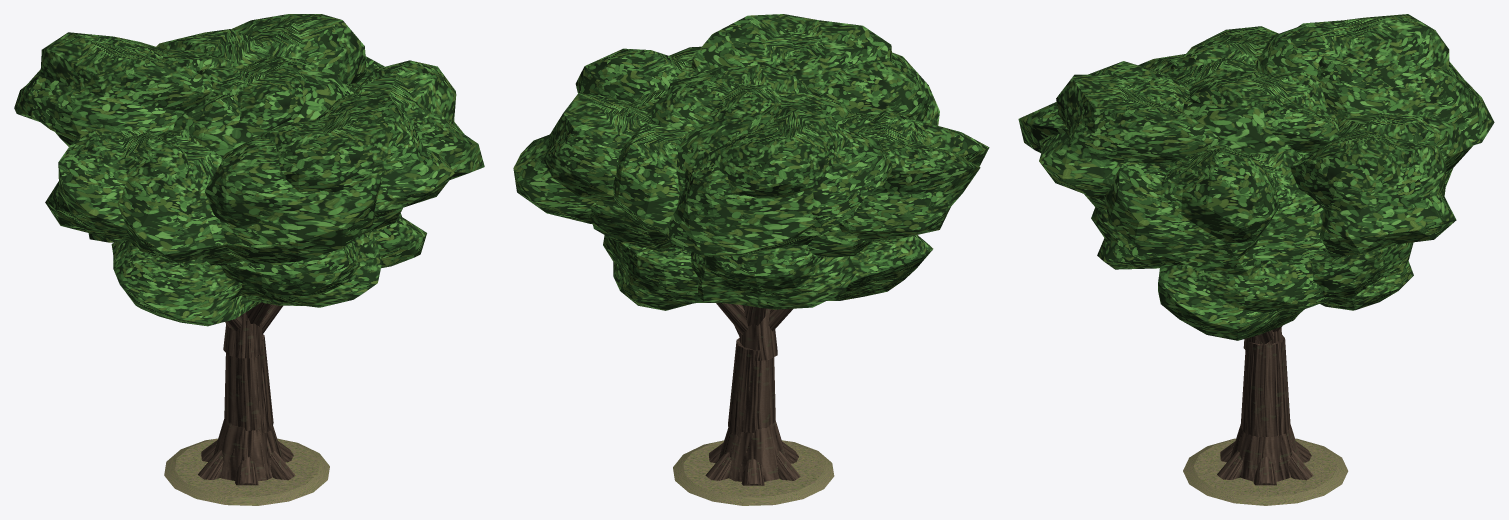
File: laurel_de_la_india.obj
3 views of the same model, side by side, from view 1: azimuth 30°, elevation 25°; view 2: azimuth 150°, elevation 25°; view 3: azimuth 270°, elevation 25° (orthographic). The views are drawn at different scales.
Parts seen in each view (by area): view 1: Follaje_Laurel_10, Follaje_Laurel_5, Follaje_Laurel_4, Follaje_Laurel_8, Follaje_Laurel_7, Follaje_Laurel_9, Follaje_Laurel_6, Follaje_Laurel_2, Follaje_Laurel_14, Base_Tierra_Pasto_Arbol, Follaje_Laurel_21, Follaje_Laurel_16 (+7 smaller); view 2: Follaje_Laurel_10, Follaje_Laurel_11, Follaje_Laurel_14, Follaje_Laurel_8, Follaje_Laurel_4, Follaje_Laurel_12, Follaje_Laurel_13, Follaje_Laurel_21, Base_Tierra_Pasto_Arbol, Follaje_Laurel_5, Follaje_Laurel_15, Follaje_Laurel_2 (+8 smaller); view 3: Follaje_Laurel_2, Follaje_Laurel_14, Follaje_Laurel_4, Follaje_Laurel_3, Follaje_Laurel_10, Follaje_Laurel_11, Follaje_Laurel_21, Base_Tierra_Pasto_Arbol, Follaje_Laurel_1, Follaje_Laurel_15, Mesh_273, Follaje_Laurel_16 (+7 smaller).
Part boxes in pixels (x1,y1,x2,y2): Follaje_Laurel_10: [14, 32, 214, 140]; Follaje_Laurel_5: [204, 136, 402, 264]; Follaje_Laurel_4: [260, 92, 454, 219]; Follaje_Laurel_8: [45, 129, 189, 239]; Follaje_Laurel_7: [117, 129, 229, 262]; Follaje_Laurel_9: [111, 240, 260, 326]; Follaje_Laurel_6: [221, 231, 382, 307]; Follaje_Laurel_2: [353, 60, 484, 179]; Follaje_Laurel_14: [231, 14, 384, 84]; Base_Tierra_Pasto_Arbol: [164, 438, 329, 505]; Follaje_Laurel_21: [197, 56, 318, 131]; Follaje_Laurel_16: [173, 63, 352, 157]; Follaje_Laurel_10: [708, 102, 892, 236]; Follaje_Laurel_11: [662, 114, 817, 255]; Follaje_Laurel_14: [513, 93, 655, 224]; Follaje_Laurel_8: [839, 110, 980, 241]; Follaje_Laurel_4: [691, 14, 892, 90]; Follaje_Laurel_12: [691, 246, 856, 309]; Follaje_Laurel_13: [588, 123, 688, 251]; Follaje_Laurel_21: [651, 64, 808, 131]; Base_Tierra_Pasto_Arbol: [673, 440, 834, 505]; Follaje_Laurel_5: [817, 52, 939, 125]; Follaje_Laurel_15: [603, 235, 717, 310]; Follaje_Laurel_2: [575, 46, 701, 104]; Follaje_Laurel_2: [1104, 145, 1279, 275]; Follaje_Laurel_14: [1290, 128, 1456, 257]; Follaje_Laurel_4: [1038, 74, 1221, 199]; Follaje_Laurel_3: [1158, 260, 1333, 340]; Follaje_Laurel_10: [1255, 14, 1449, 87]; Follaje_Laurel_11: [1316, 55, 1494, 145]; Follaje_Laurel_21: [1189, 71, 1339, 153]; Base_Tierra_Pasto_Arbol: [1183, 438, 1348, 505]; Follaje_Laurel_1: [1208, 149, 1325, 264]; Follaje_Laurel_15: [1311, 242, 1413, 310]; Mesh_273: [1240, 335, 1290, 436]; Follaje_Laurel_16: [1183, 70, 1308, 155].
Size of the model in its own units: 7.28 by 7.29 by 7.6.
Materials: 3 (3 with a texture image).
